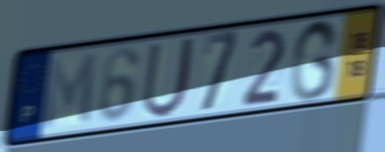2: (240, 26, 289, 110)
6: (96, 44, 141, 125)
7: (200, 28, 239, 116)
G: (287, 16, 341, 104)
M: (40, 49, 99, 134)
U: (140, 34, 199, 121)
